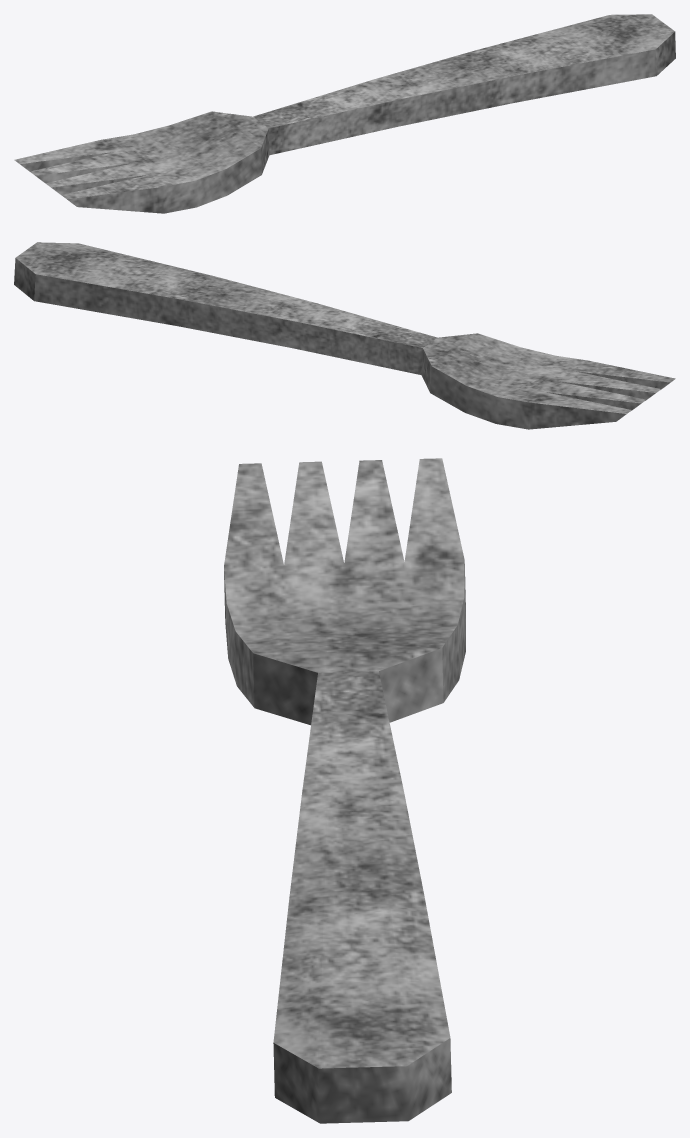
File: Canette_projectile.obj
3 views of the same model, one above another, from view 1: azimuth 30°, elevation 25°; view 2: azimuth 150°, elevation 25°; view 3: azimuth 270°, elevation 25° (orthographic). The views are drawn at different scales.
Parts seen in each view (by area): view 1: ustenciles; view 2: ustenciles; view 3: ustenciles.
Boxes of the visible parts, x1,y1,x2,y2 form: ustenciles: (14, 14, 675, 213); ustenciles: (14, 242, 675, 429); ustenciles: (224, 458, 465, 1123).
Bounding box in the file's own units: 187 × 11.81 × 31.65.
Materials: 1 (1 with a texture image).
